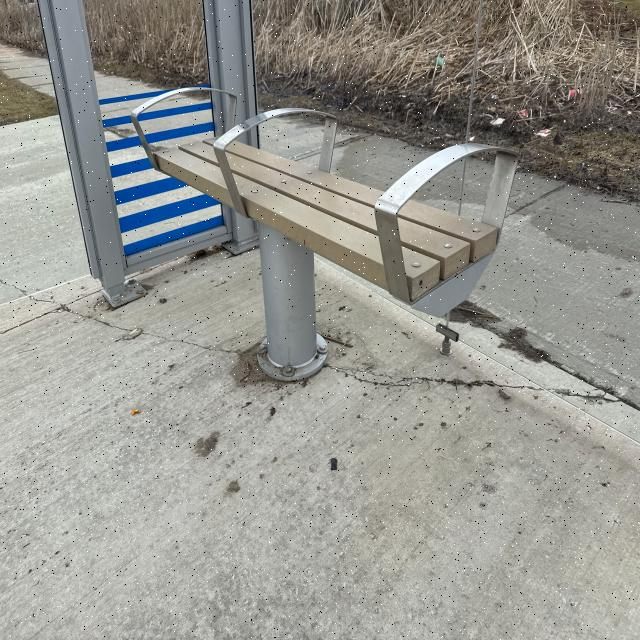Bench: (136, 84, 515, 367)
